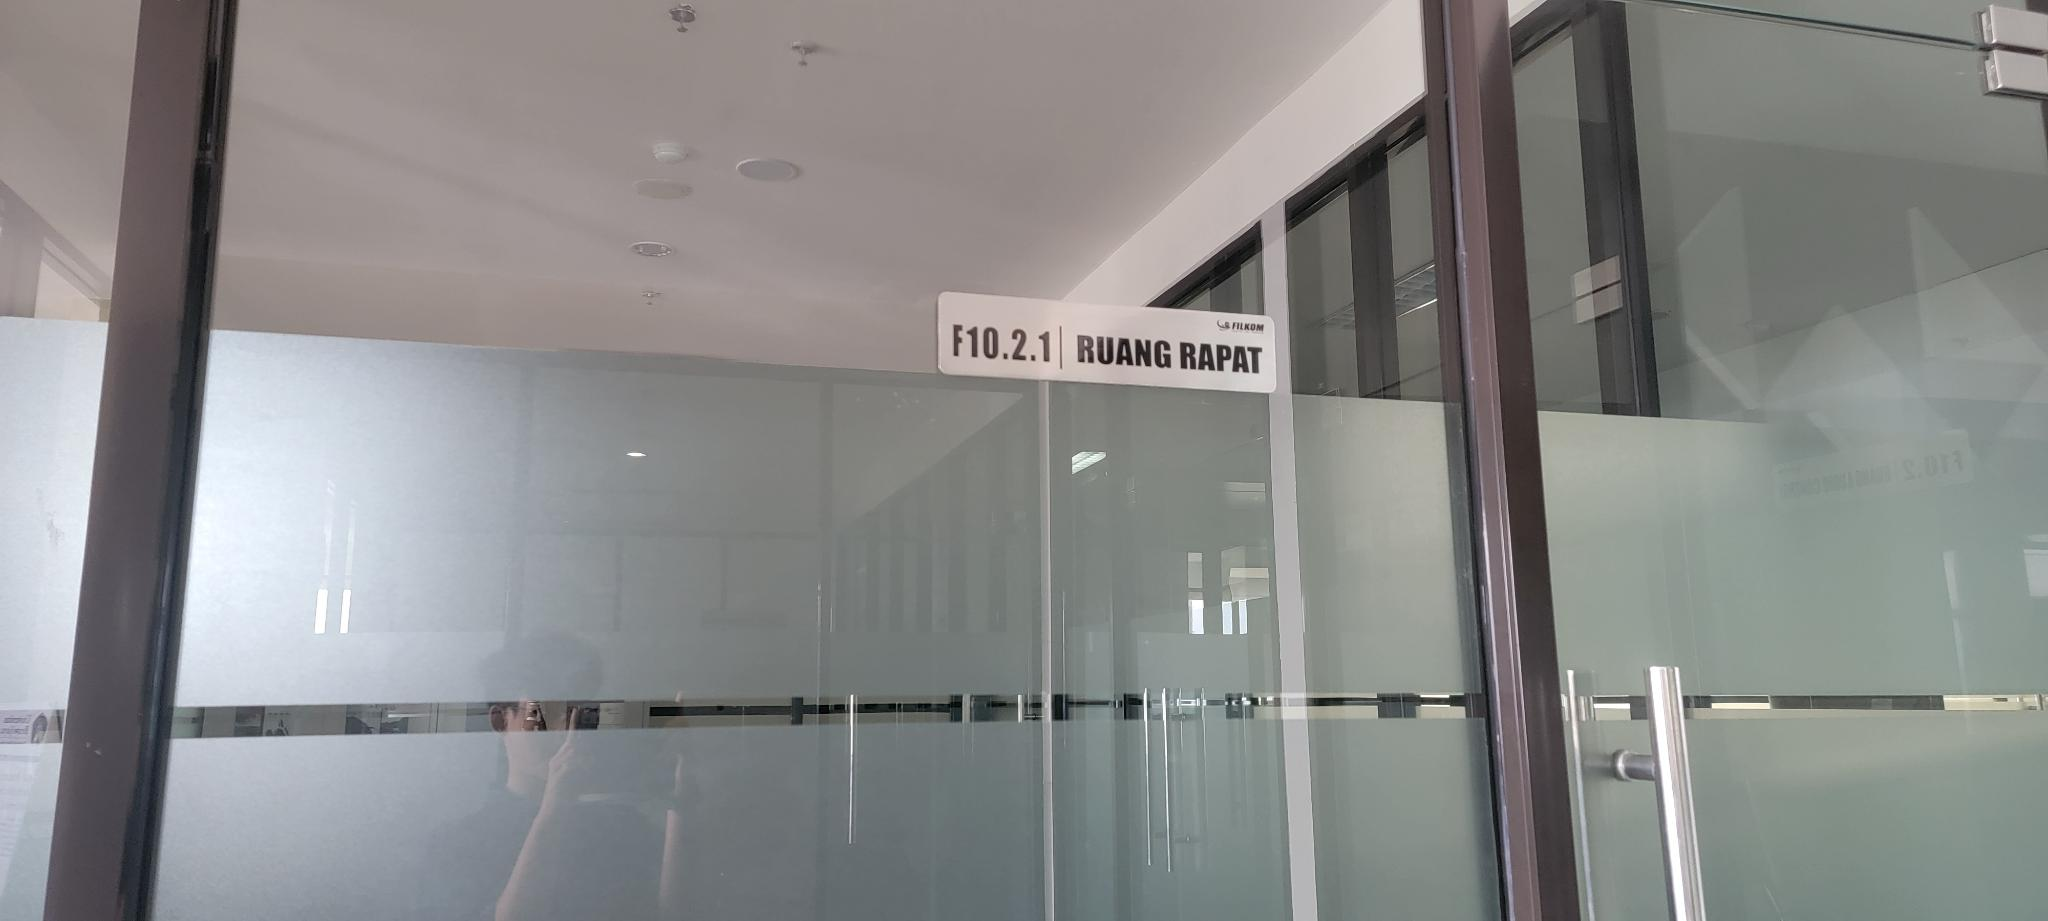plate: (936, 293, 1279, 393)
